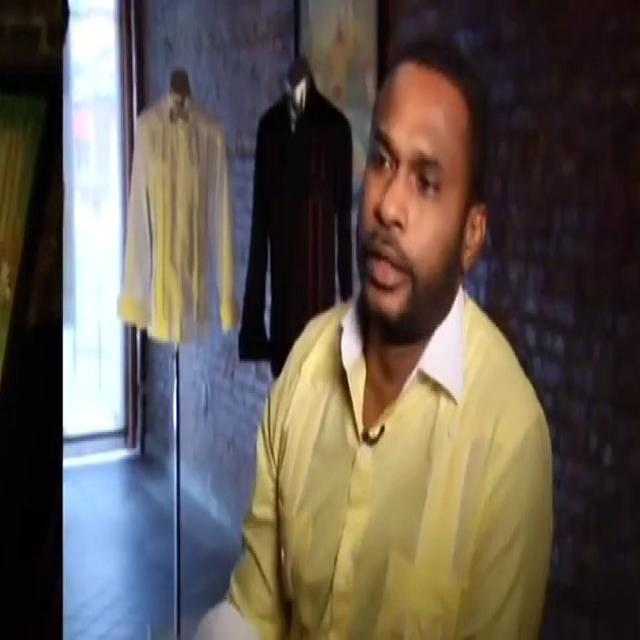Shirt: (192, 276, 553, 640), (114, 88, 239, 341)
